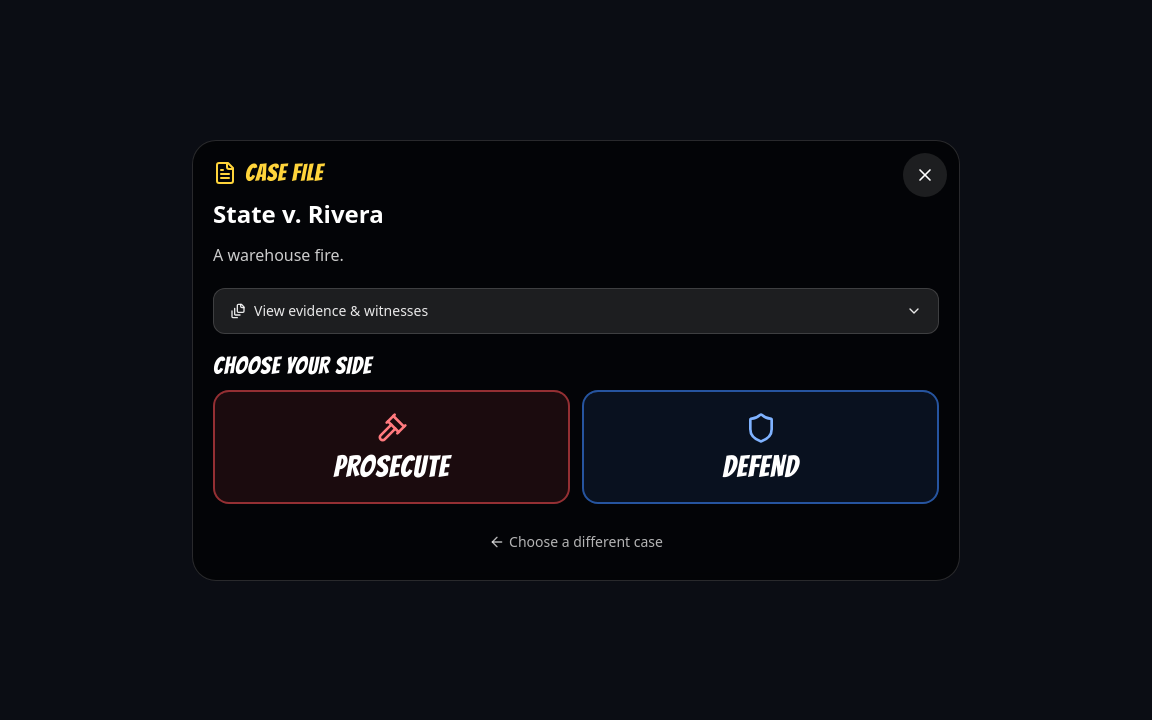
Scenario: CasePreview (accept the case) › briefs you with your own avatar, and Accept takes the case on that side
Later steps or results of the test are not shown.
Click the button "DEFEND": (760, 446) [582,390,939,504]
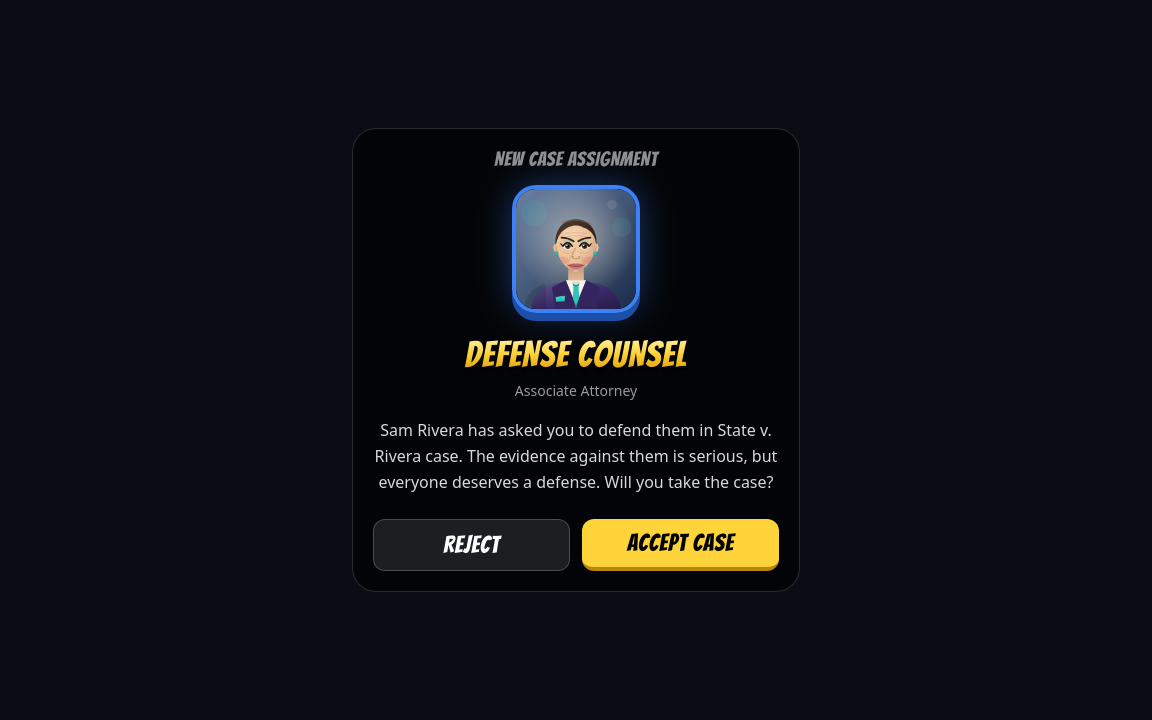
Now the dialog named "DEFENSE COUNSEL briefing" is shown, box [352,128,800,592]
Now the text "Sam Rivera has asked you to defend them" is shown, box [375,419,777,493]
Now the picture named "Your avatar" is shown, box [516,189,636,309]
